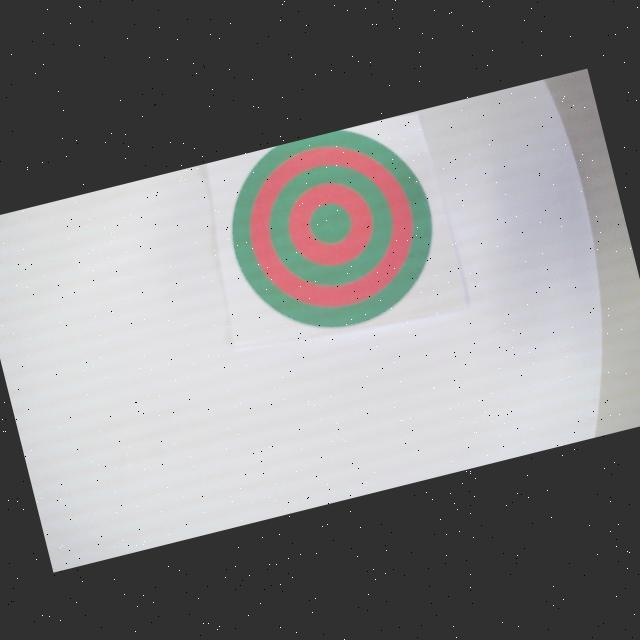COGNITIVE: (212, 113, 453, 348)
